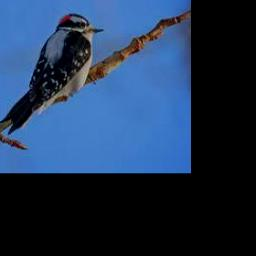Woodpecker: (0, 13, 104, 134)
